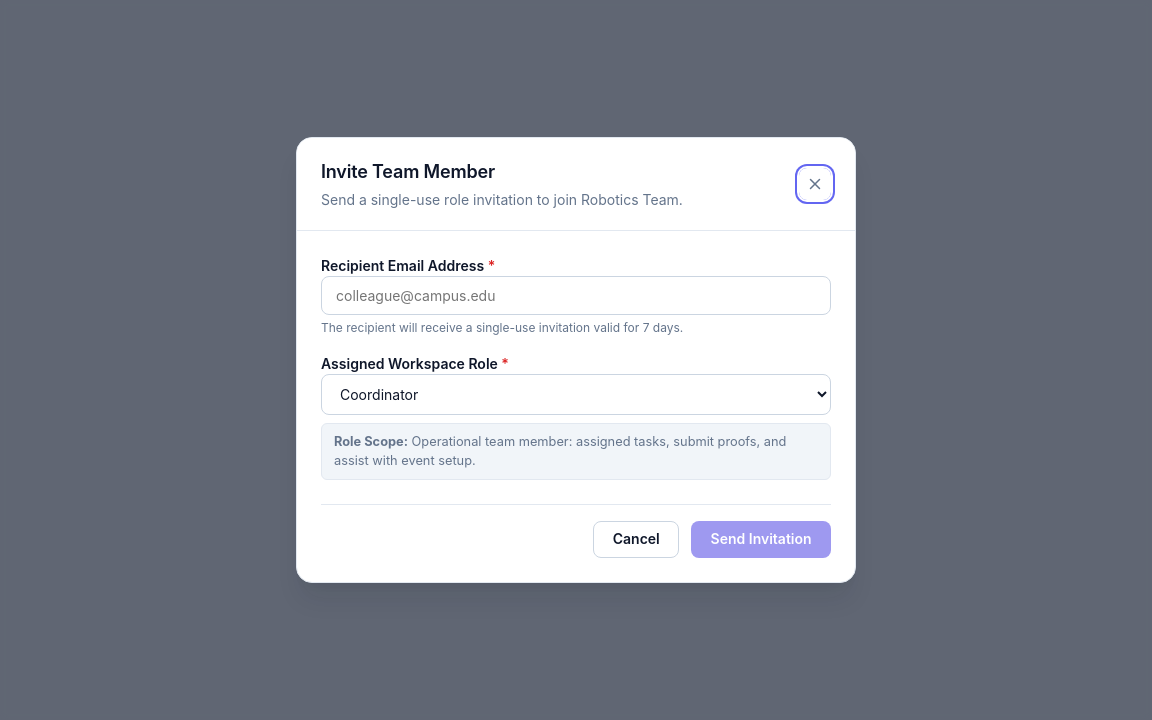
Test case: Phase 1: Workspace, Organization & Team Management › InviteMemberModal Component › handles transactional email unconfigured error (HTTP 503 / FPC-06) cleanly
Type "robotics-lead@berkeley.edu" into the field labelled "Recipient Email Address" at x=576, y=296, box [321,276,831,315]
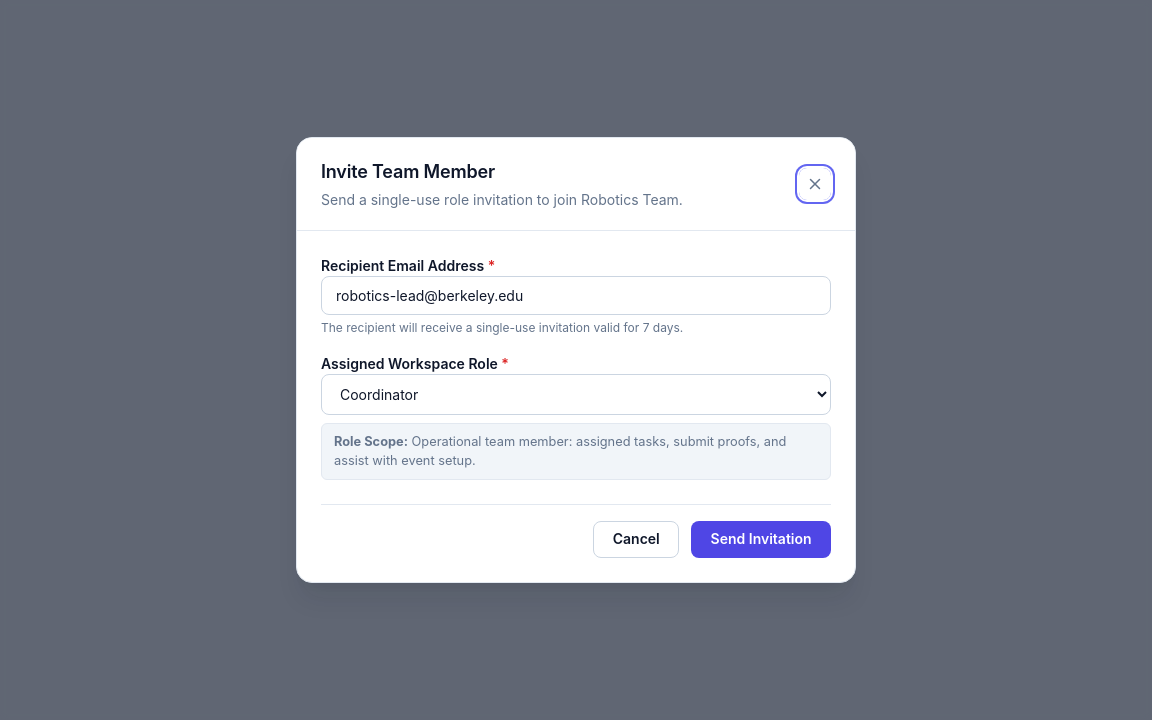
Click the button "Send Invitation" at x=761, y=539, box [691,521,831,558]
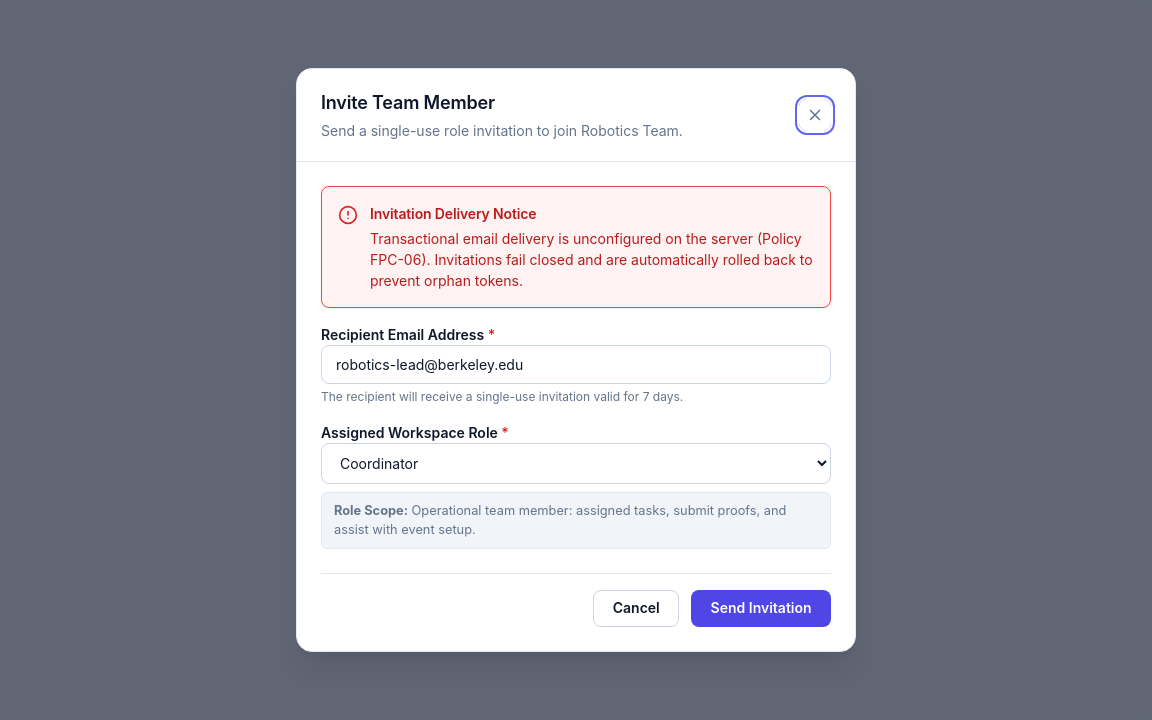
Expected: the text "Transactional email delivery is unconfigured on the server (Policy FPC-06)" is shown, [370,230,813,289]
